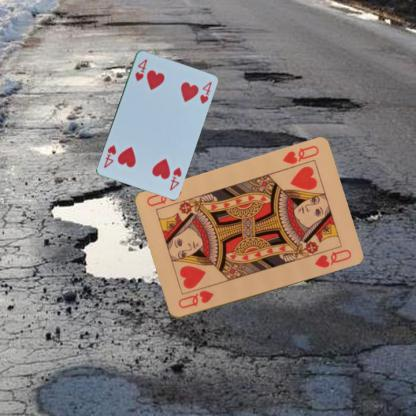4h: (167, 164, 183, 191), (132, 56, 148, 82)
Qh: (280, 143, 320, 166), (175, 288, 215, 310)
